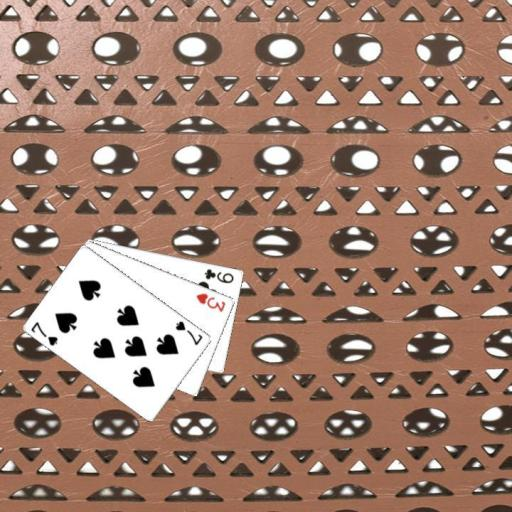3H: (194, 290, 228, 314)
7S: (172, 318, 205, 346), (28, 319, 60, 347)
9C: (202, 266, 236, 285)
